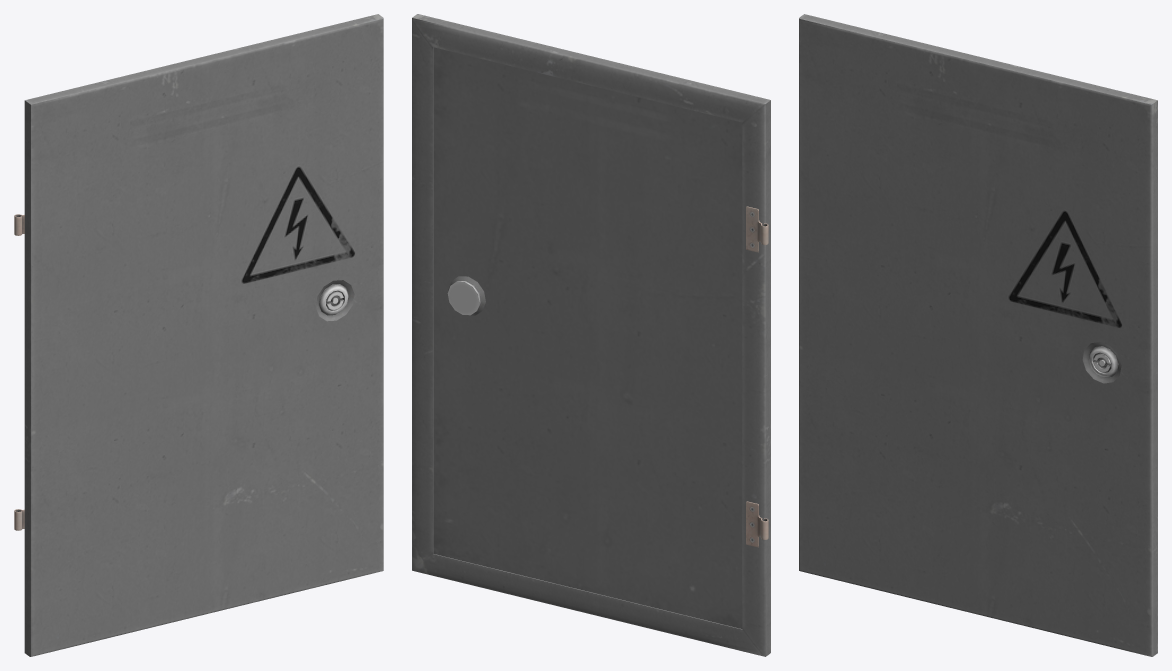
The model's file is electrical_panel_door.glb.
3 views of the same model, side by side, from view 1: azimuth 30°, elevation 25°; view 2: azimuth 150°, elevation 25°; view 3: azimuth 330°, elevation 25° (orthographic).
Visible parts, largest first — view 1: power_box_01_door_1; view 2: power_box_01_door_1; view 3: power_box_01_door_1.
Part boxes in pixels (x1=…): power_box_01_door_1: x1=14, y1=14, x2=383, y2=656; power_box_01_door_1: x1=412, y1=14, x2=770, y2=656; power_box_01_door_1: x1=799, y1=14, x2=1157, y2=656.
Bounding box in the file's own units: 0.3319 × 0.4871 × 0.0197.
Materials: 1 (1 with a texture image).
